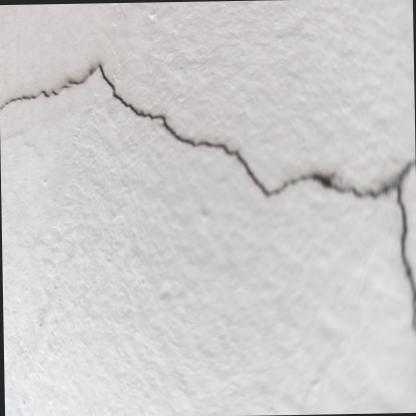crack: (66, 62, 416, 339), (0, 82, 71, 111)
